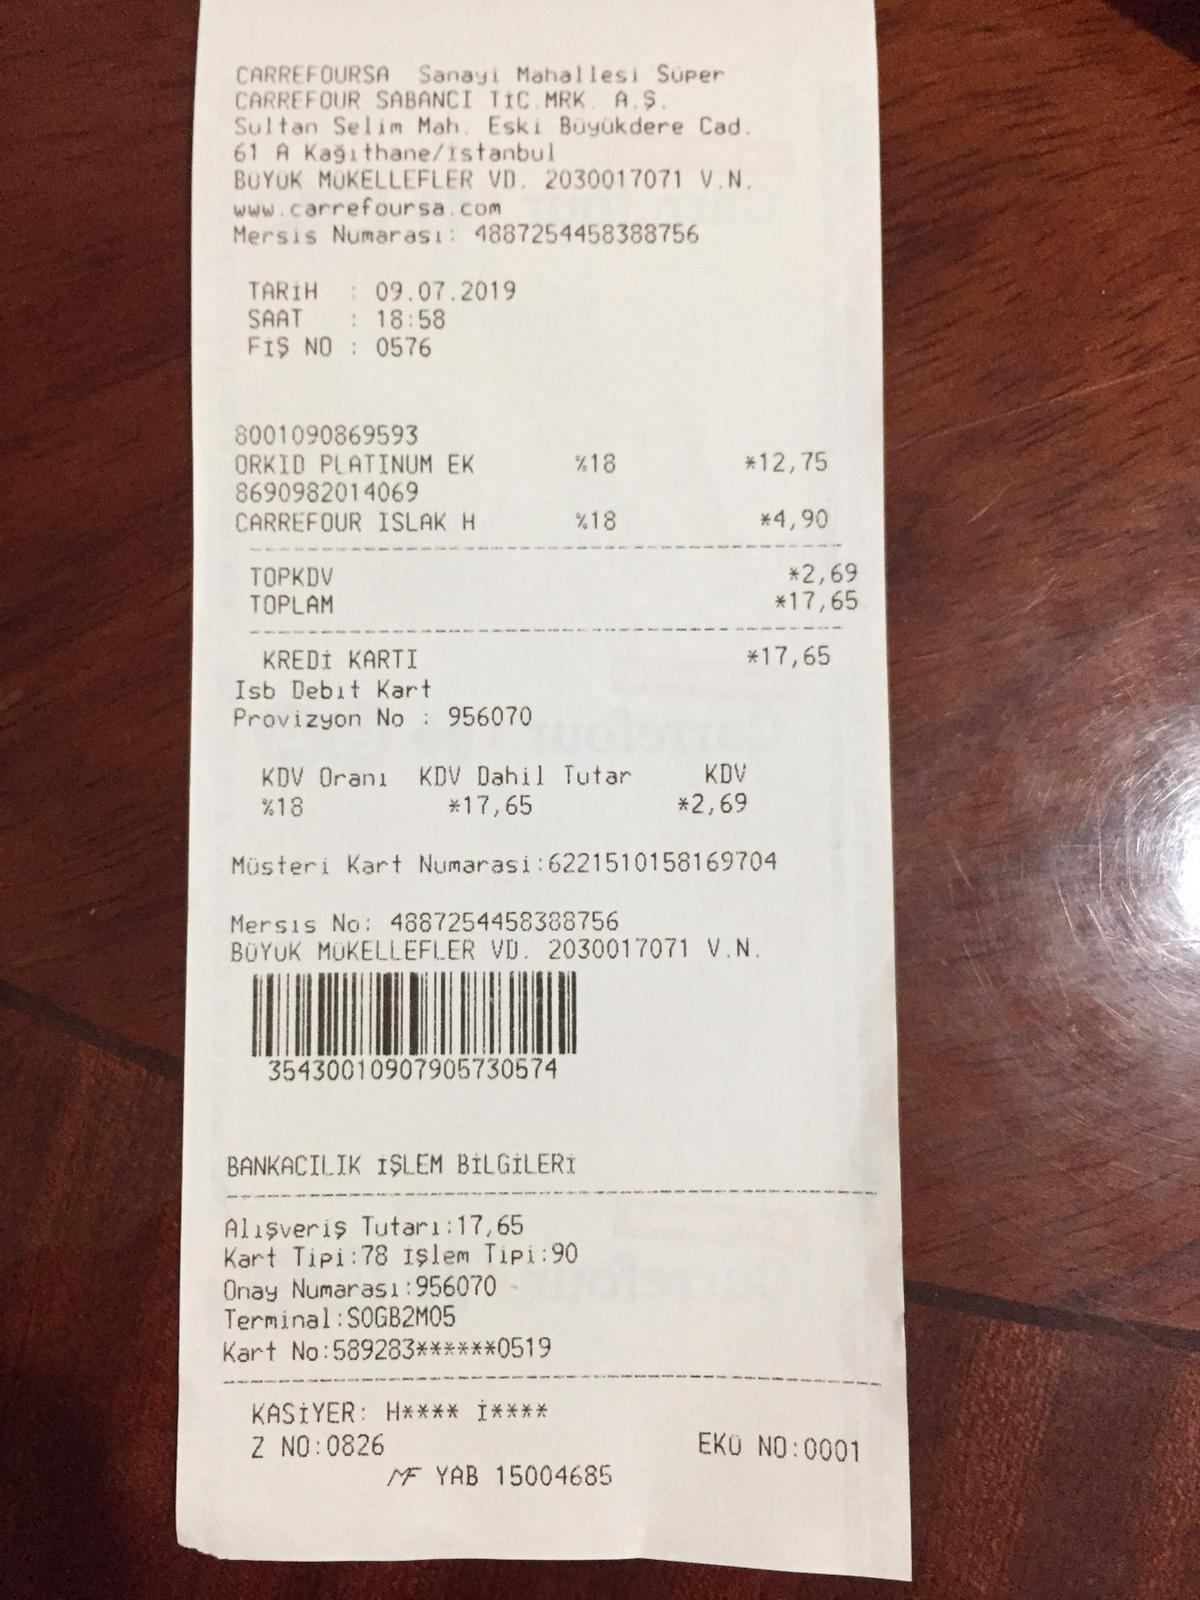total: (250, 586, 870, 620)
